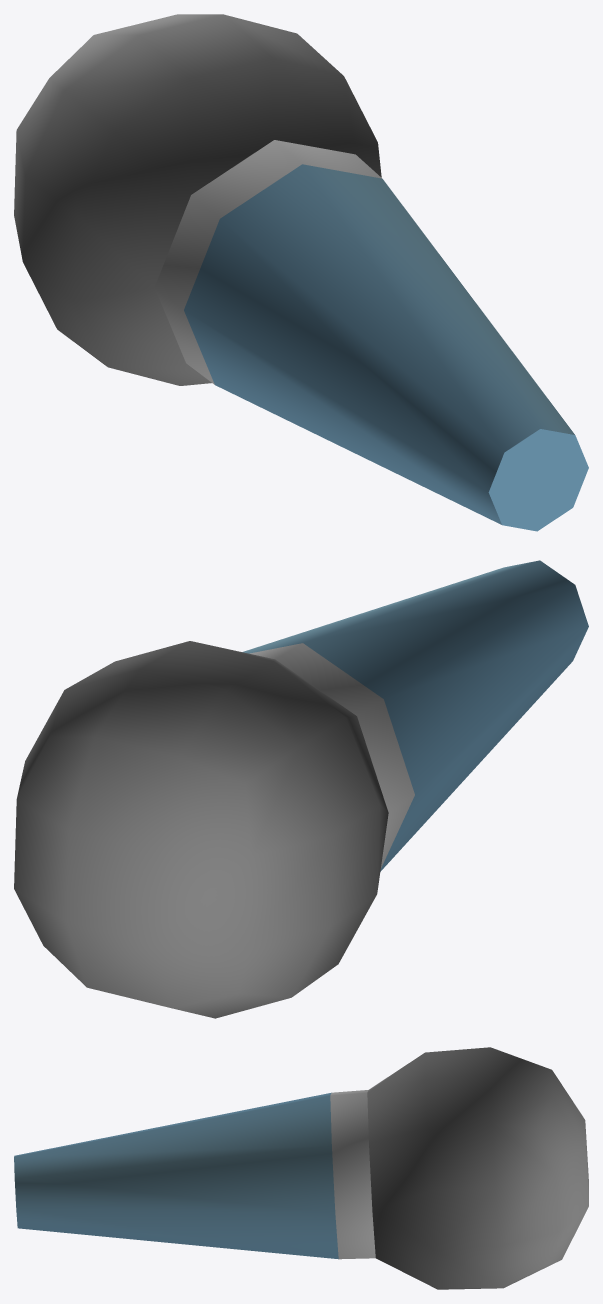
The model's file is Microphone.glb.
The picture shows the model from 3 angles, top to bottom: view 1: azimuth 30°, elevation 25°; view 2: azimuth 150°, elevation 25°; view 3: azimuth 270°, elevation 25°; orthographic projection. The views are drawn at different scales.
Visible parts, largest first — view 1: Microphone; view 2: Microphone; view 3: Microphone.
Part boxes in pixels (x1,y1,x2,y2): Microphone: (14, 14, 588, 531); Microphone: (14, 560, 588, 1018); Microphone: (14, 1047, 588, 1289).
Size of the model in its own units: 0.1136 by 0.1142 by 0.2766.
